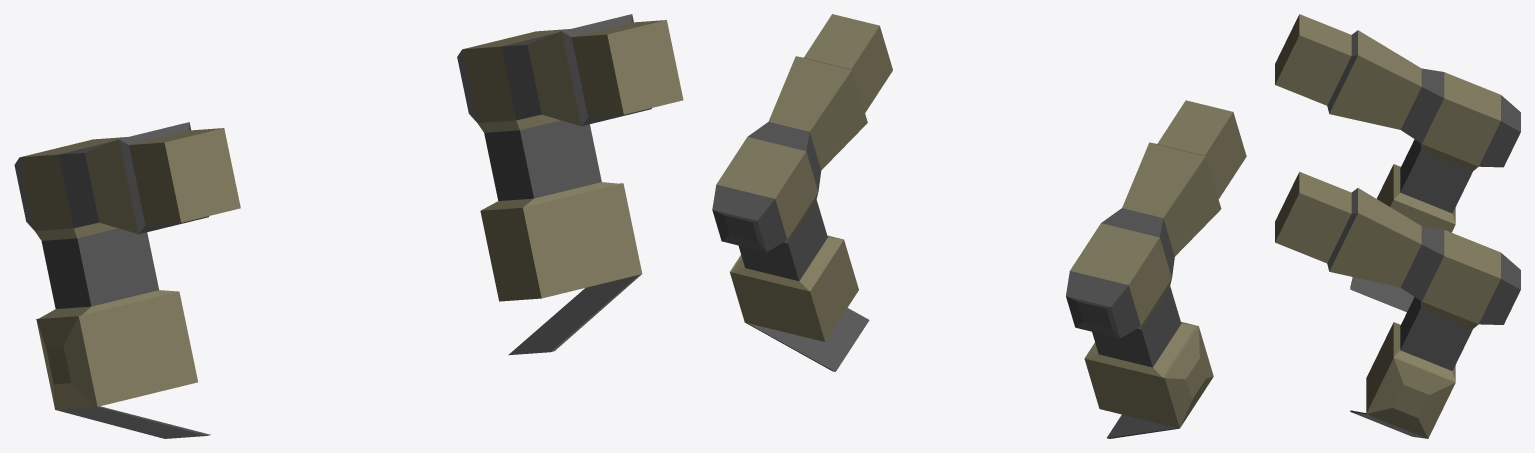
Rendered from arm3-2.obj.
The picture shows the model from 3 angles, left to right: view 1: azimuth 30°, elevation 25°; view 2: azimuth 150°, elevation 25°; view 3: azimuth 270°, elevation 25°; orthographic projection. The views are drawn at different scales.
Visible parts, largest first — view 1: MechArm3; view 2: MechArm3; view 3: MechArm3.
Boxes of the visible parts, left/top/right/bottom form: MechArm3: left=14, top=14, right=683, bottom=438; MechArm3: left=712, top=14, right=1246, bottom=438; MechArm3: left=1275, top=14, right=1520, bottom=438.
Size of the model in its own units: 8.14 by 5.15 by 4.23.
Materials: 1 (1 with a texture image).
